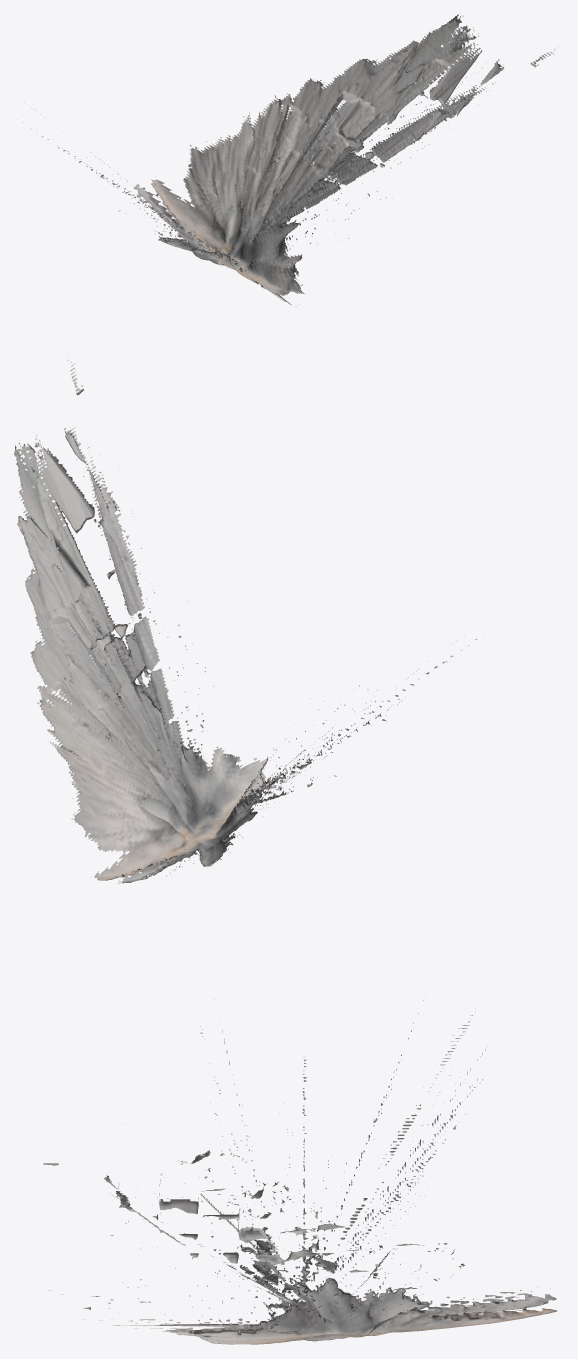
The model's file is collider.glb.
The picture shows the model from 3 angles, top to bottom: view 1: azimuth 30°, elevation 25°; view 2: azimuth 150°, elevation 25°; view 3: azimuth 270°, elevation 25°; orthographic projection. The views are drawn at different scales.
Visible parts, largest first — view 1: world; view 2: world; view 3: world.
Part boxes in pixels (left/top/right/bottom): world: left=17, top=14, right=559, bottom=306; world: left=14, top=353, right=477, bottom=883; world: left=43, top=982, right=557, bottom=1344.
Size of the model in its own units: 454 by 252 by 366.
